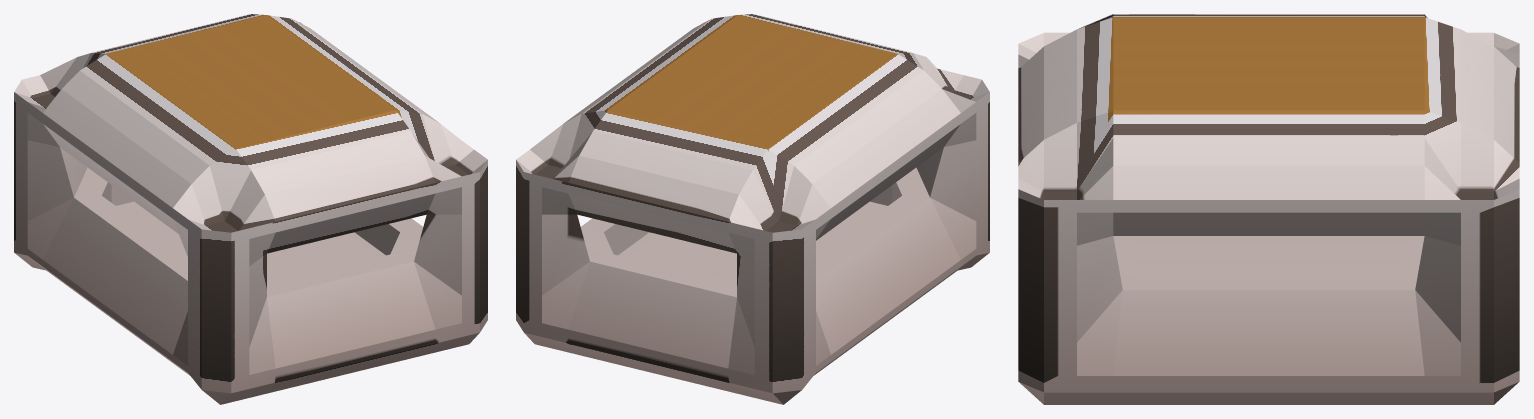
Rendered from Building_main.fbx.
The picture shows the model from 3 angles, left to right: view 1: azimuth 30°, elevation 25°; view 2: azimuth 150°, elevation 25°; view 3: azimuth 270°, elevation 25°; orthographic projection. The views are drawn at different scales.
Parts seen in each view (by area): view 1: Building_main; view 2: Building_main; view 3: Building_main.
Part boxes in pixels (<box>): Building_main: <box>14,14,487,404</box>; Building_main: <box>516,14,989,404</box>; Building_main: <box>1018,14,1519,404</box>.
Bounding box in the file's own units: 7.5 × 5.61 × 9.5.
